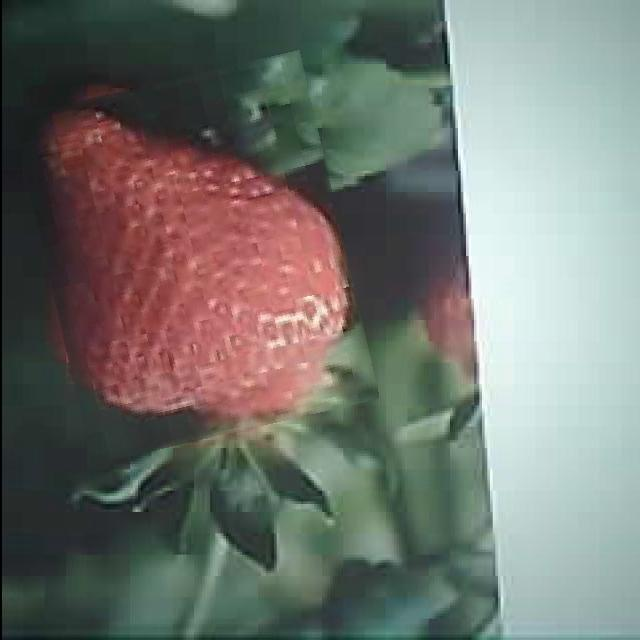strawberry: (29, 64, 360, 450)
